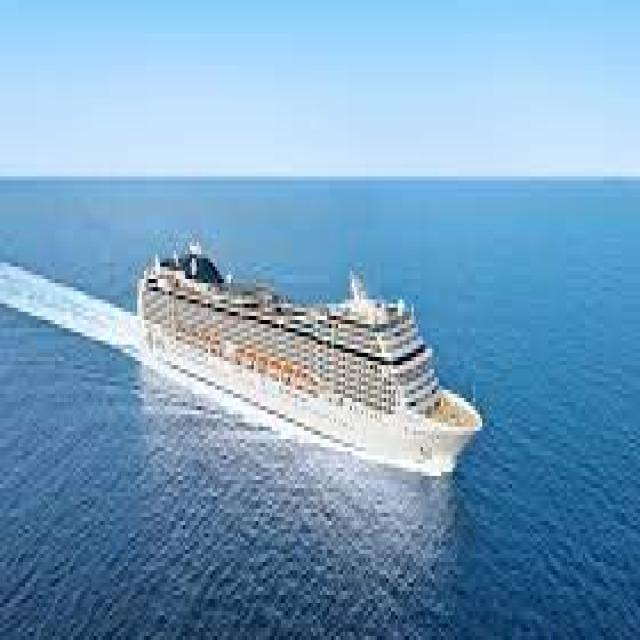passenger ship: (130, 232, 485, 478)
